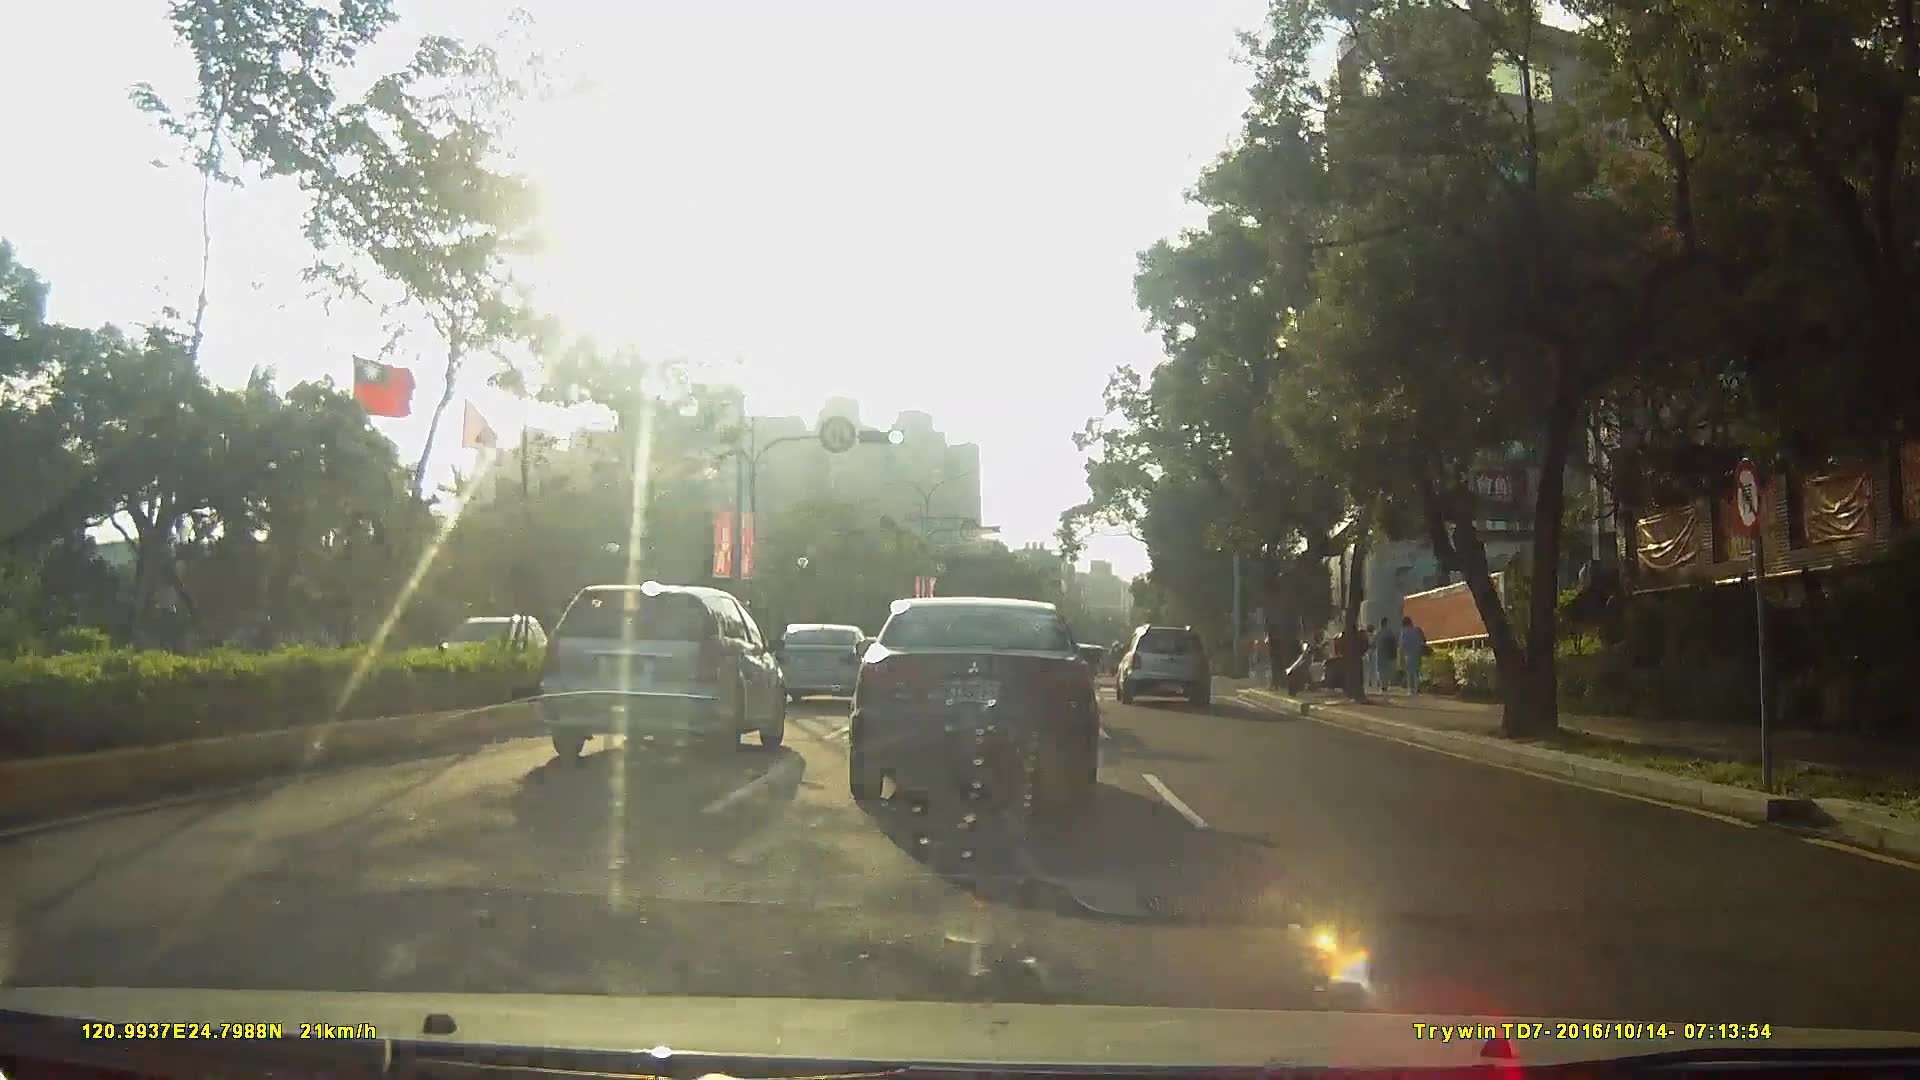pedestrian: (1398, 616, 1431, 701), (1373, 616, 1398, 698)
vehicle: (843, 593, 1096, 814), (533, 580, 786, 761), (1112, 622, 1220, 709), (774, 620, 877, 711)
